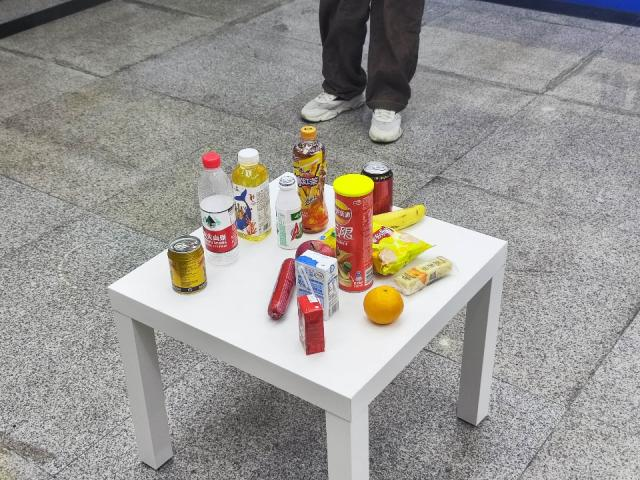Canned_drinks: (166, 235, 208, 294), (367, 159, 395, 215)
bottle: (196, 149, 240, 271)
cylinder: (335, 175, 371, 300)
drink_box: (293, 256, 342, 310)
